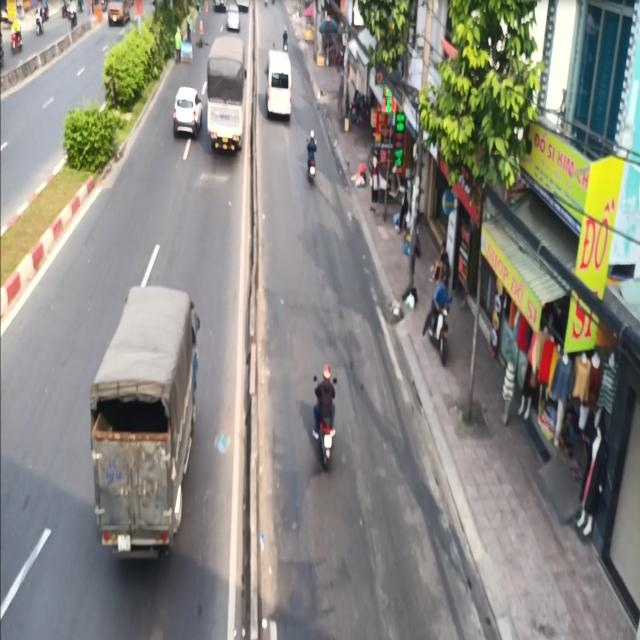car: (266, 48, 293, 129), (174, 84, 204, 138)
motor: (310, 356, 338, 474), (302, 121, 320, 181)
truck: (90, 273, 200, 560), (207, 33, 247, 162)
